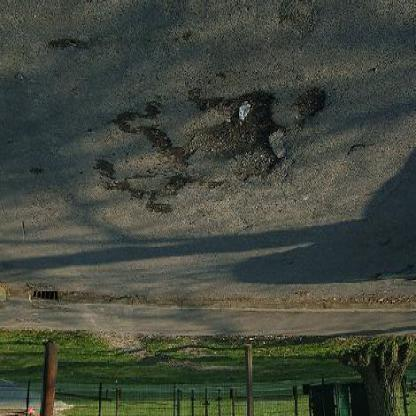pothole: (191, 90, 285, 188), (141, 129, 189, 169), (292, 89, 330, 128)
